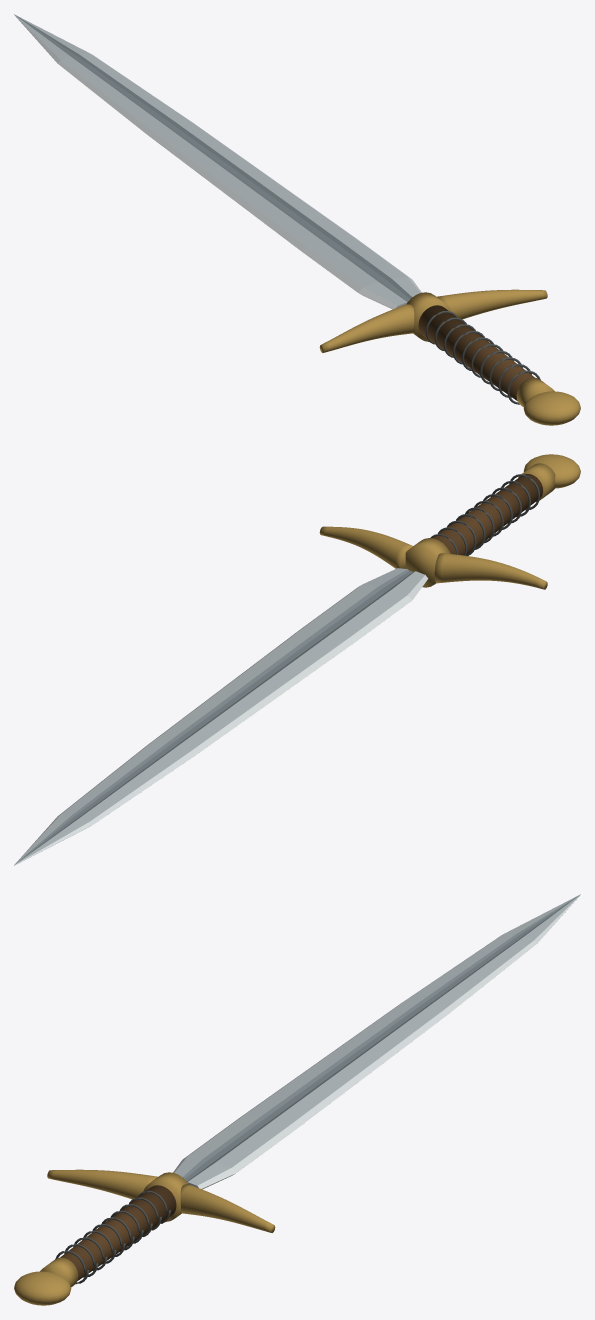
The model's file is marchguard.glb.
The picture shows the model from 3 angles, top to bottom: view 1: azimuth 30°, elevation 25°; view 2: azimuth 150°, elevation 25°; view 3: azimuth 330°, elevation 25°; orthographic projection.
Parts seen in each view (by area): view 1: Forged_marchguard; view 2: Forged_marchguard; view 3: Forged_marchguard.
Part boxes in pixels (x1,y1,x2,y2): Forged_marchguard: (14,14,580,425); Forged_marchguard: (14,454,580,865); Forged_marchguard: (14,894,580,1305).
Bounding box in the file's own units: 0.3201 × 0.054 × 1.37.
